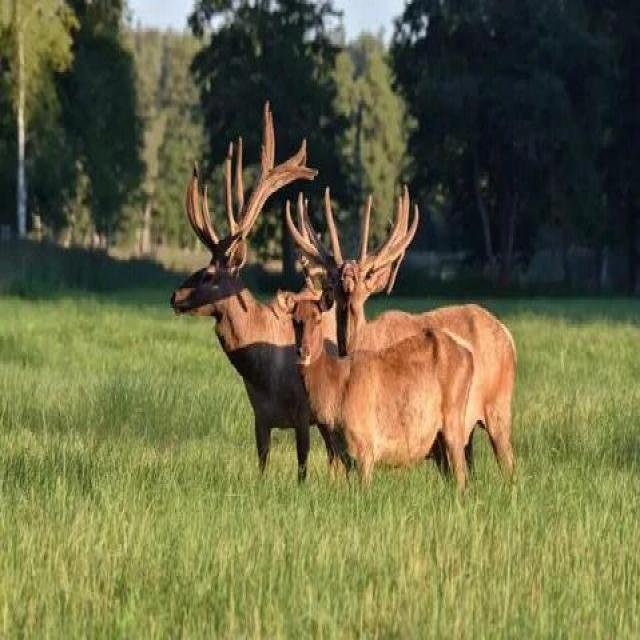deer: (288, 286, 482, 517), (304, 196, 428, 383), (190, 209, 300, 407)
